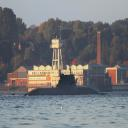submarine: (13, 76, 102, 98)
